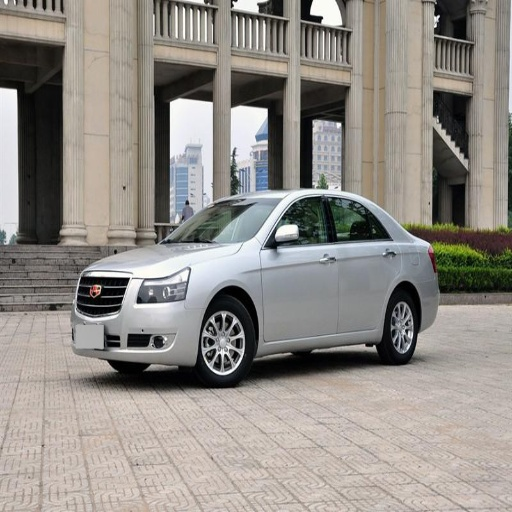front_bumper: (69, 270, 207, 365)
front_glass: (164, 199, 277, 242)
front_left_door: (263, 195, 338, 340)
